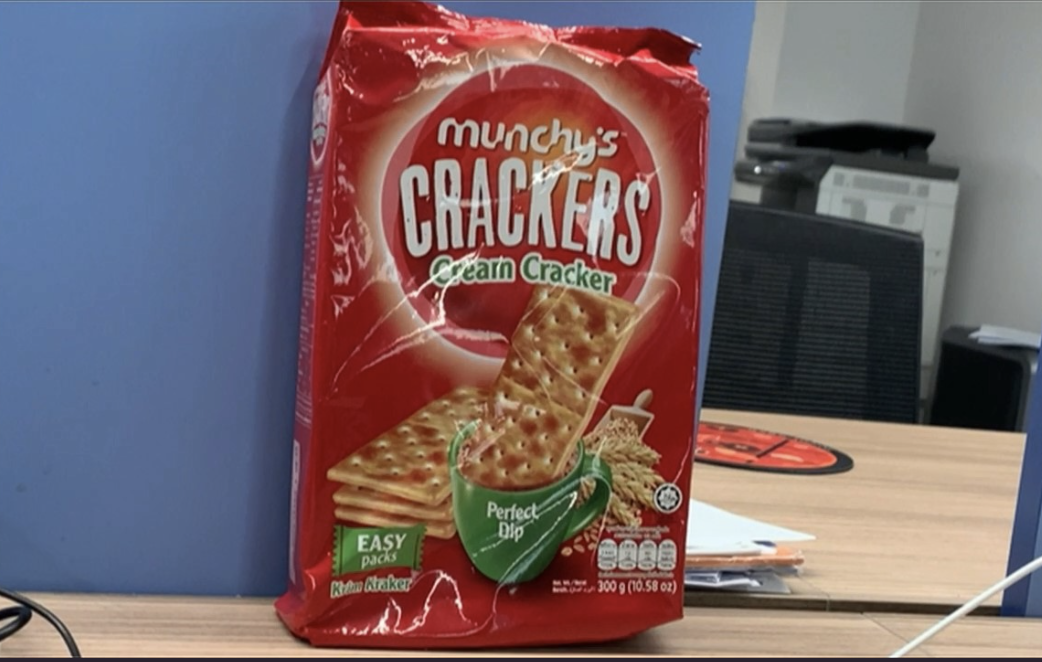crackers_300g-399g: (339, 86, 681, 601)
